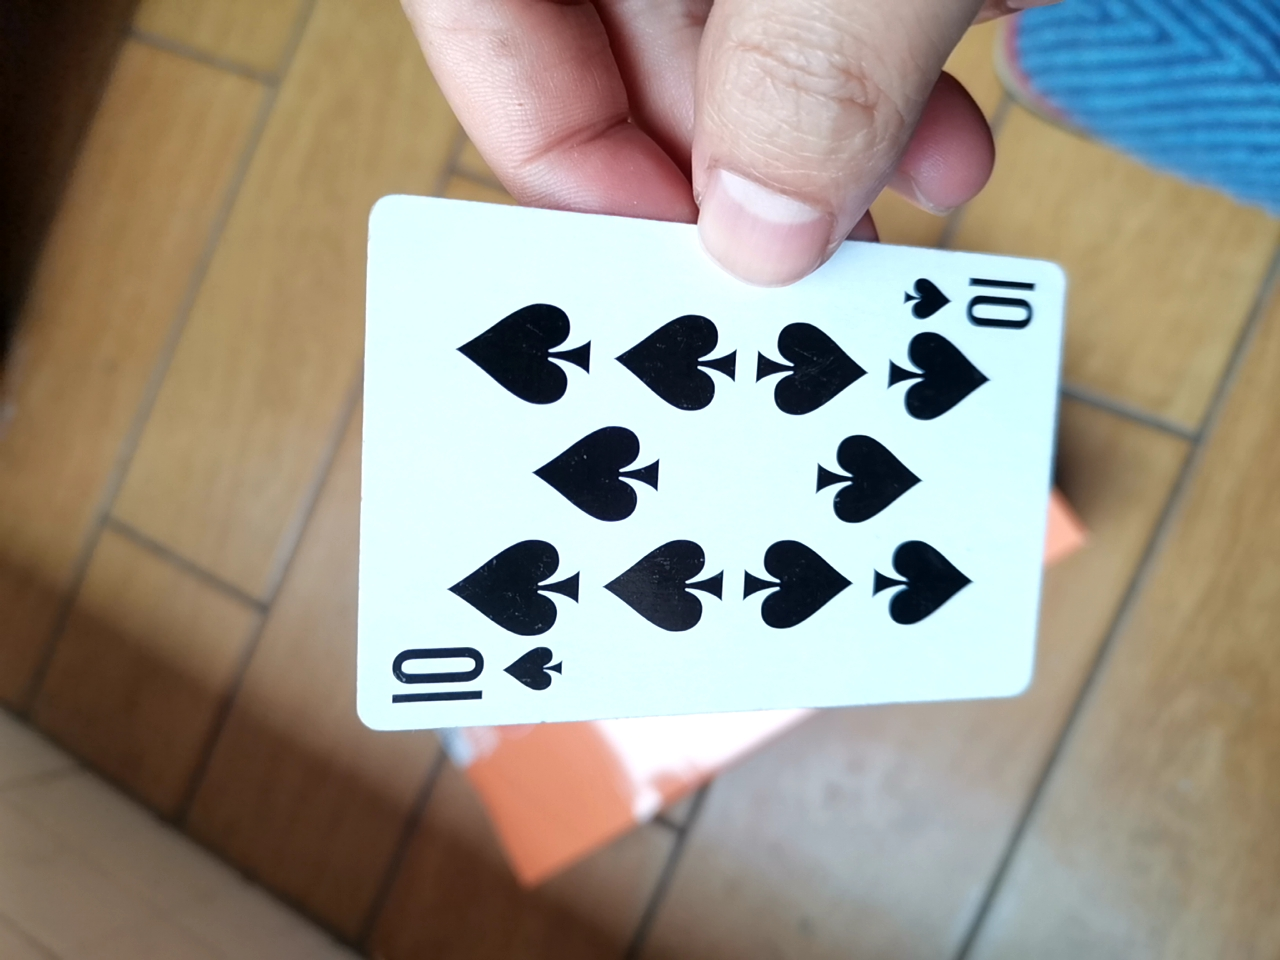ht 10: (338, 193, 1070, 779)
